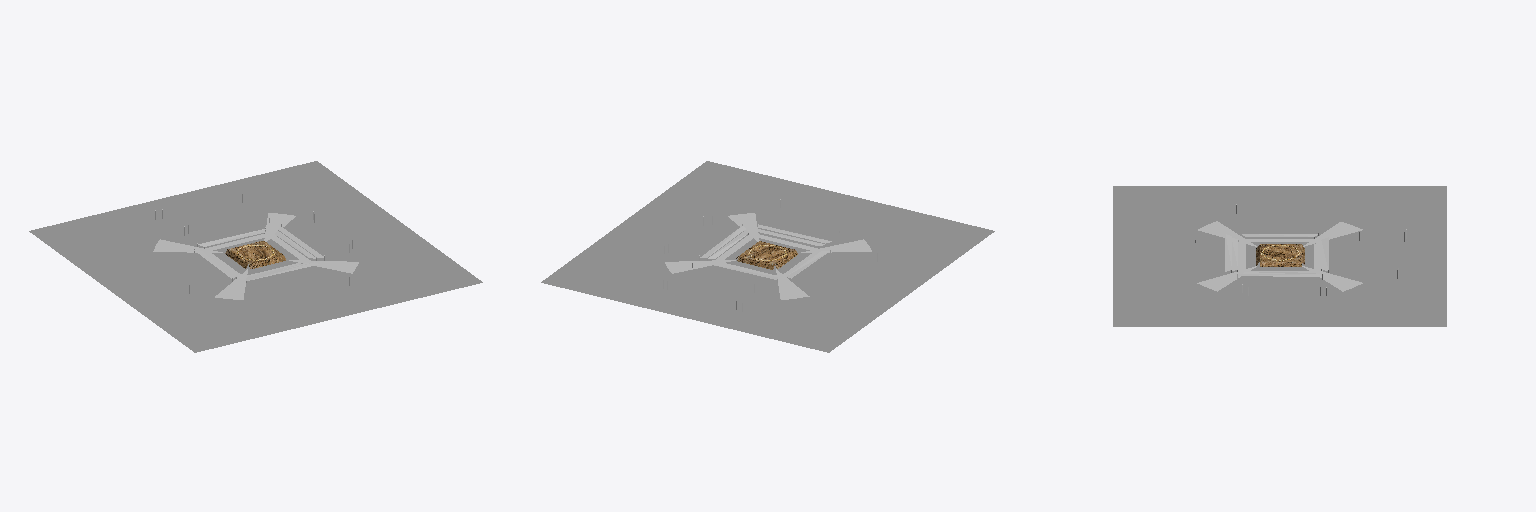
3 views of the same model, side by side, from view 1: azimuth 30°, elevation 25°; view 2: azimuth 150°, elevation 25°; view 3: azimuth 270°, elevation 25° (orthographic).
Parts seen in each view (by area): view 1: floor_Plane, Plane.001; view 2: floor_Plane, Plane.001; view 3: floor_Plane, Plane.001.
Part boxes in pixels (x1,y1,x2,y2): floor_Plane: (29, 161, 482, 352); Plane.001: (228, 241, 283, 263); floor_Plane: (541, 161, 994, 352); Plane.001: (740, 241, 794, 264); floor_Plane: (1113, 186, 1446, 326); Plane.001: (1260, 244, 1301, 261).
Bounding box in the file's own units: 15.96 × 0.918 × 15.96.
Materials: 5 (2 with a texture image).